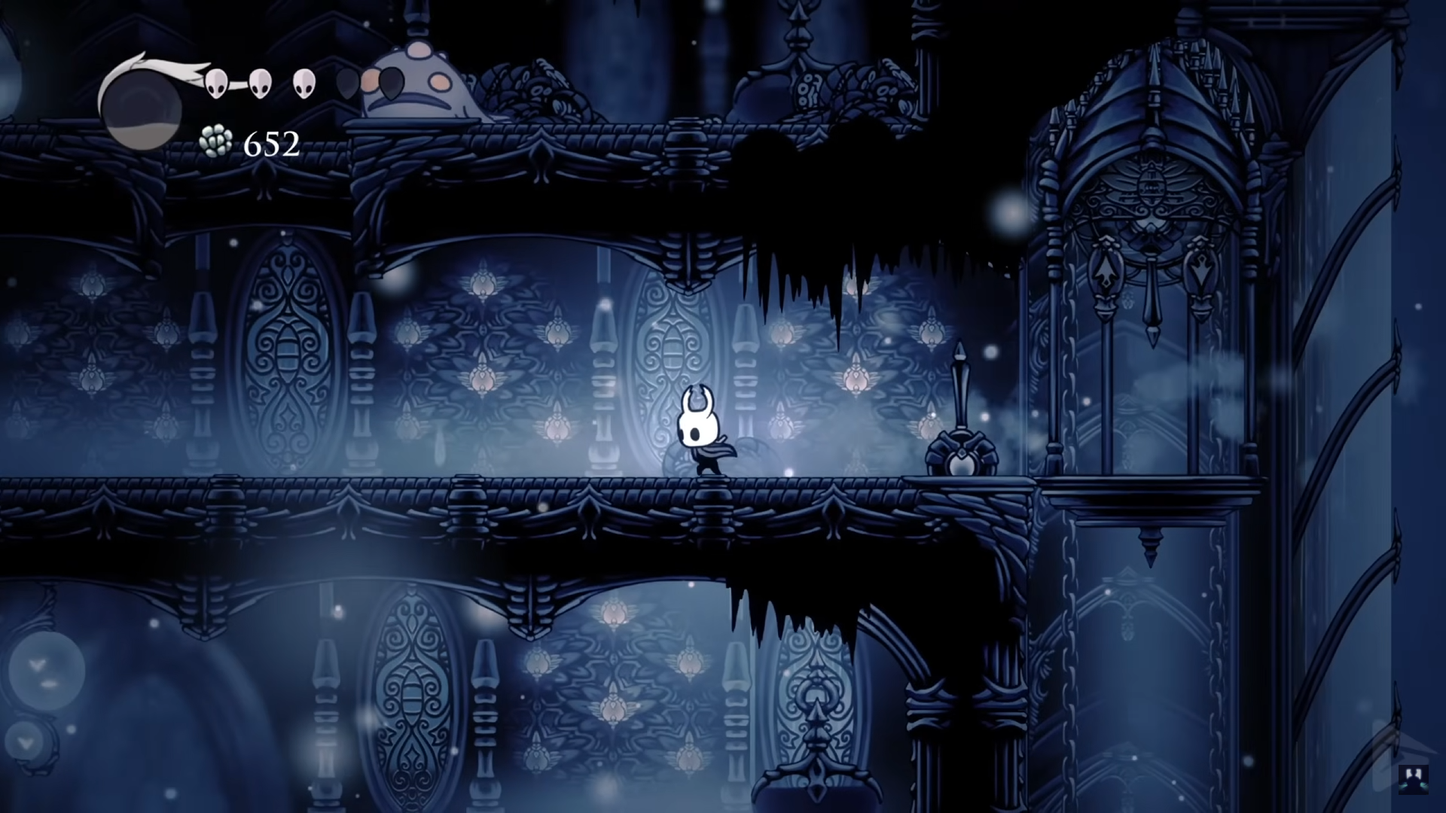HK: (672, 383, 736, 477), (465, 353, 500, 406)
